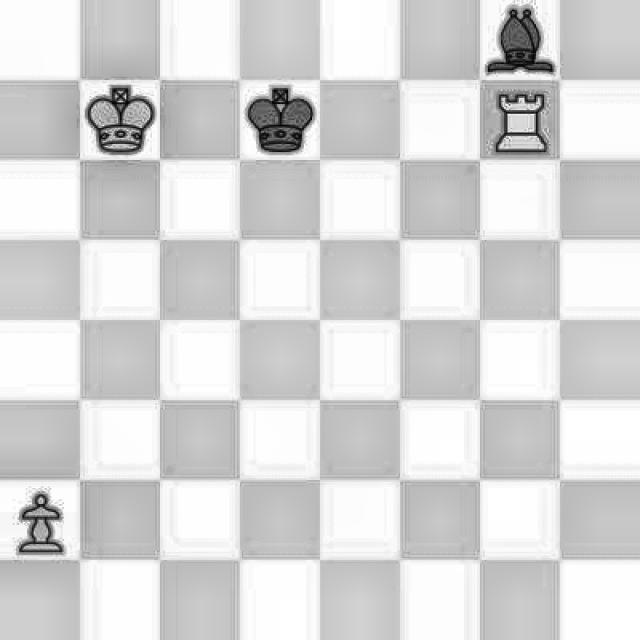black bishop: (482, 0, 556, 83)
black king: (242, 81, 319, 160)
white king: (82, 83, 163, 164)
white pawn: (3, 483, 75, 557)
white rook: (488, 79, 554, 164)
